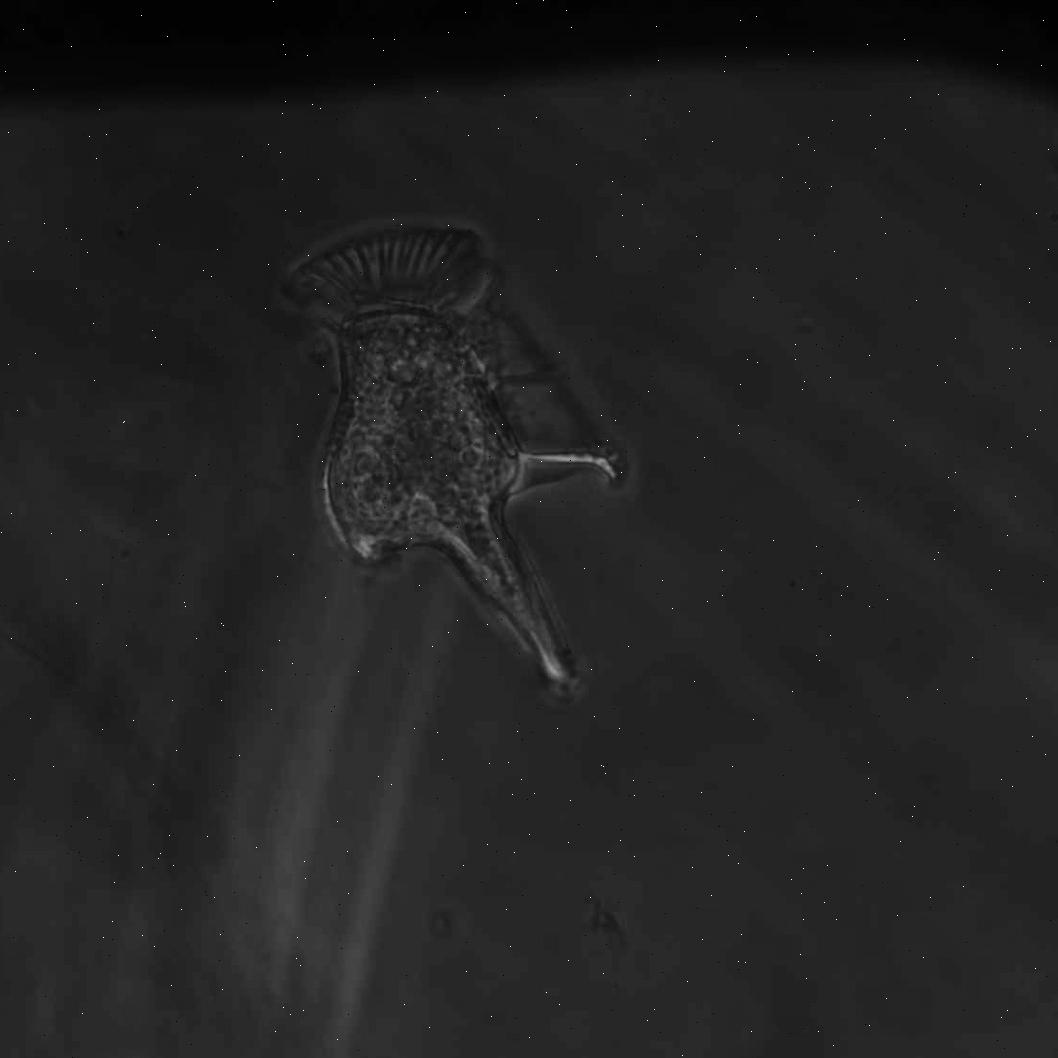dinophysis_caudata: (276, 225, 630, 703)
